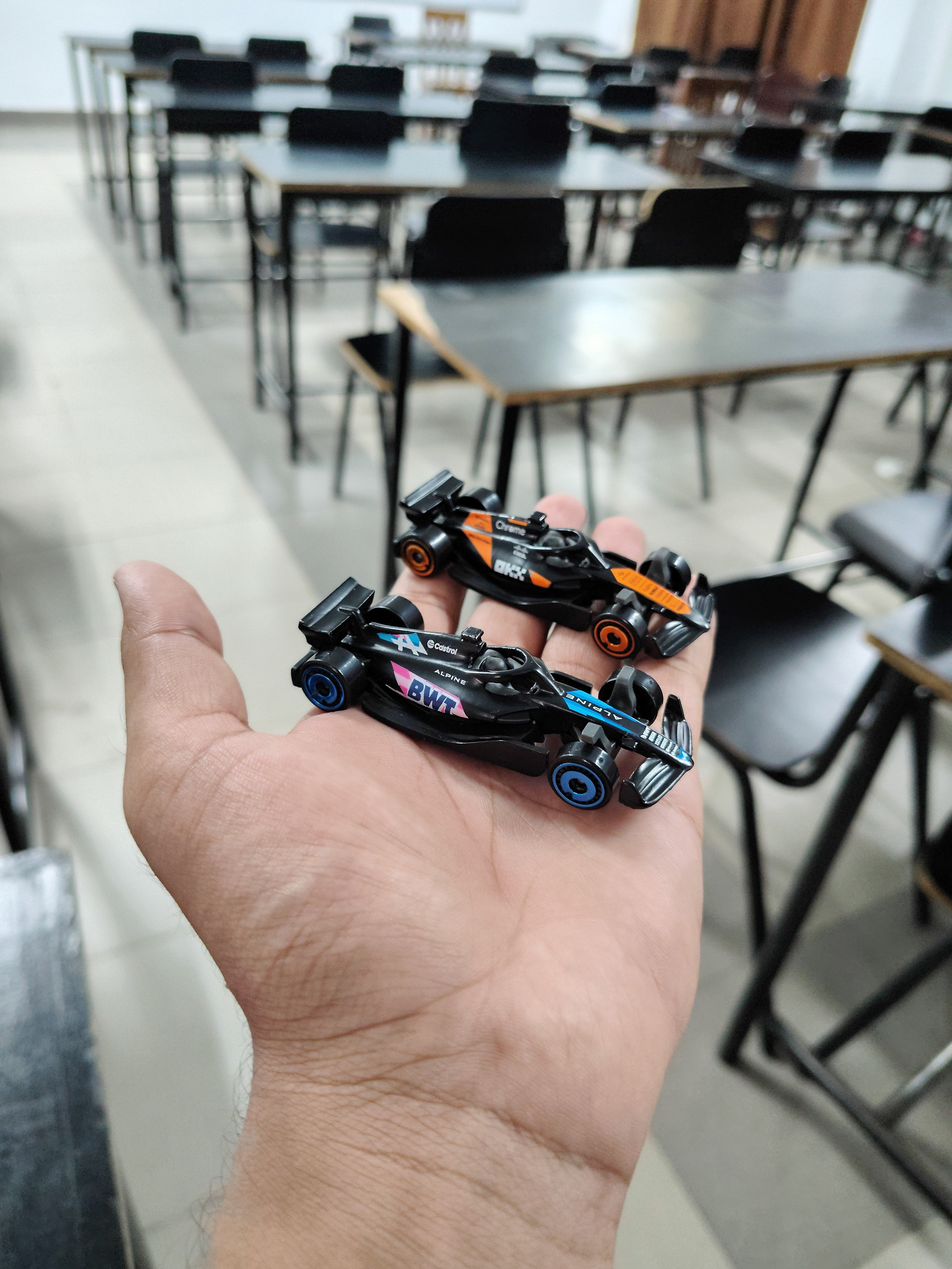Alpine A524: (291, 613, 690, 813)
McLaren MCL40: (361, 400, 773, 638)
